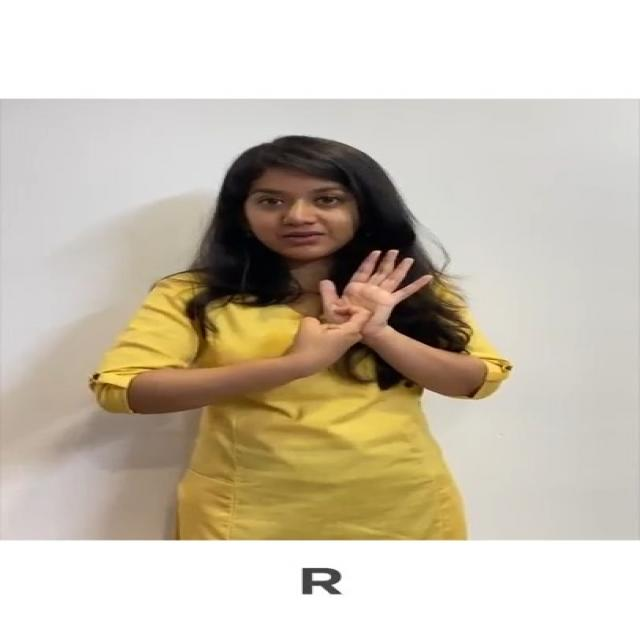R: (283, 245, 439, 378)
